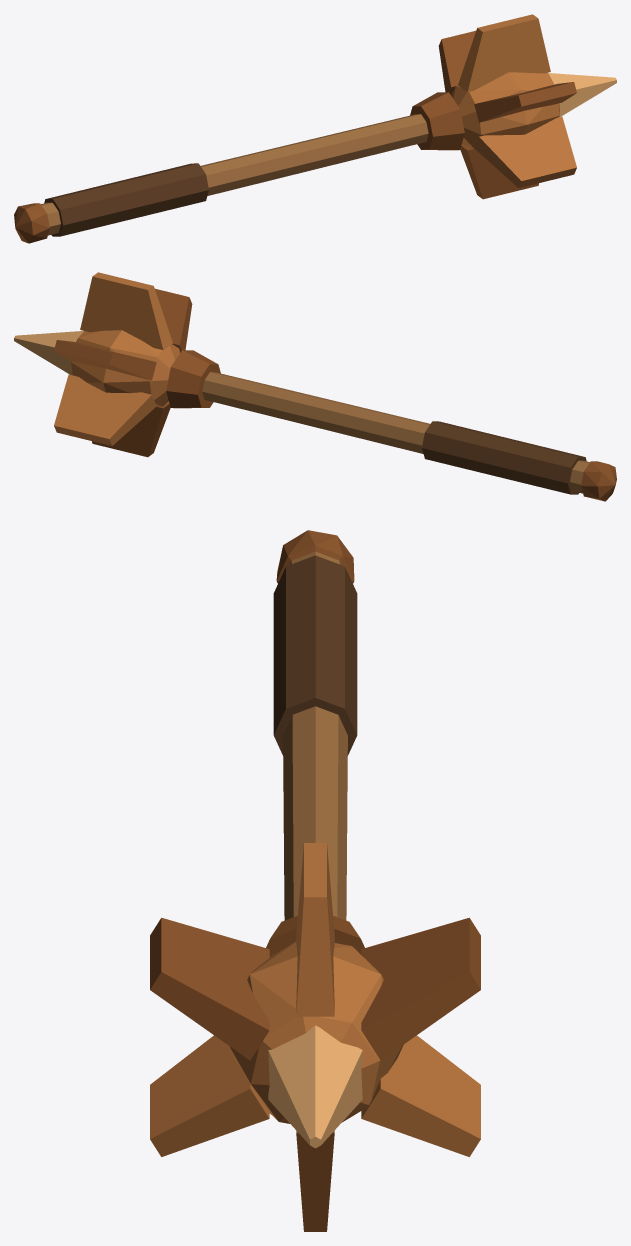
The model's file is drop_bronze_mace.glb.
3 renders of one model, top to bottom at view 1: azimuth 30°, elevation 25°; view 2: azimuth 150°, elevation 25°; view 3: azimuth 270°, elevation 25°, orthographic. The views are drawn at different scales.
Parts seen in each view (by area): view 1: drop_bronze_mace; view 2: drop_bronze_mace; view 3: drop_bronze_mace.
Part boxes in pixels (bbox=[...]): drop_bronze_mace: bbox=[14, 14, 616, 243]; drop_bronze_mace: bbox=[14, 272, 616, 501]; drop_bronze_mace: bbox=[150, 530, 480, 1231].
Bounding box in the file's own units: 0.6912 × 0.184 × 0.1651.
